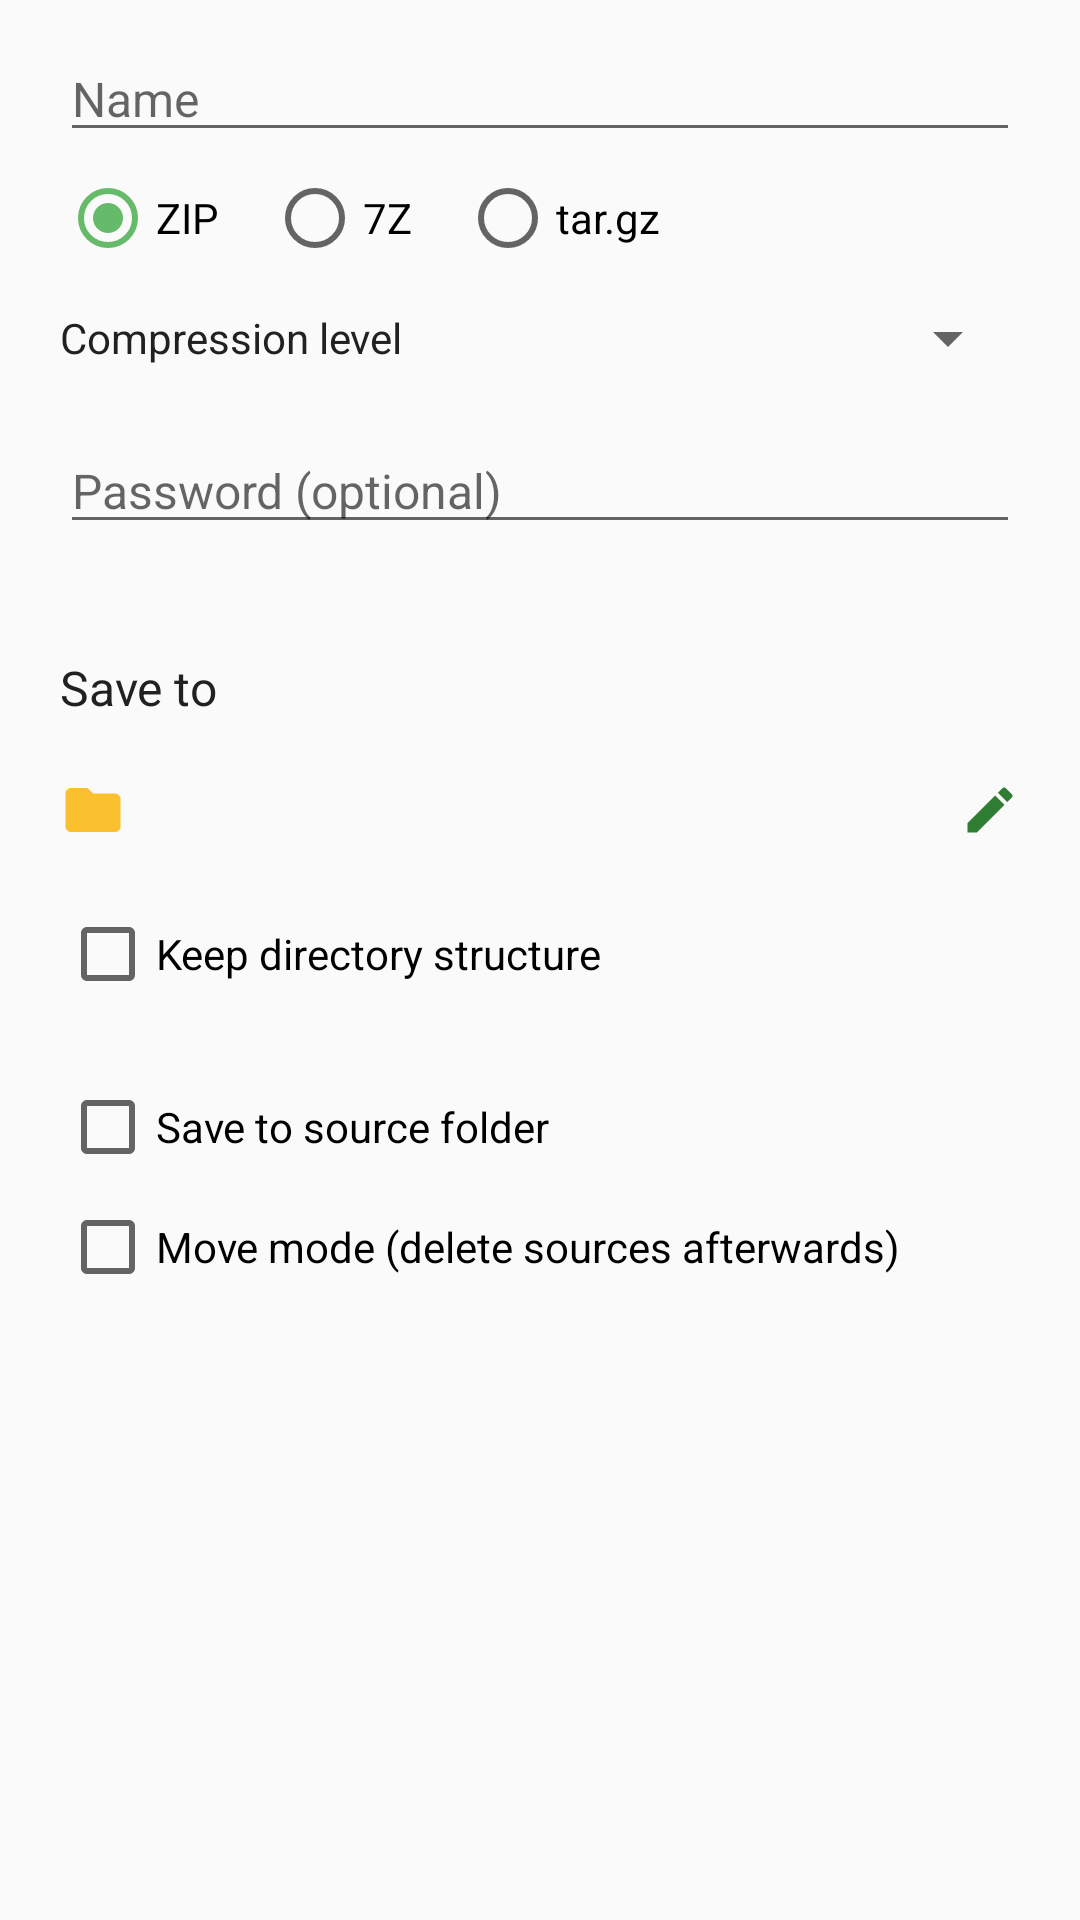

Point at icon controls on the screen. Image size 1080*1920, points as (x,y).
edit: (990,810)
folder: (93,810)
